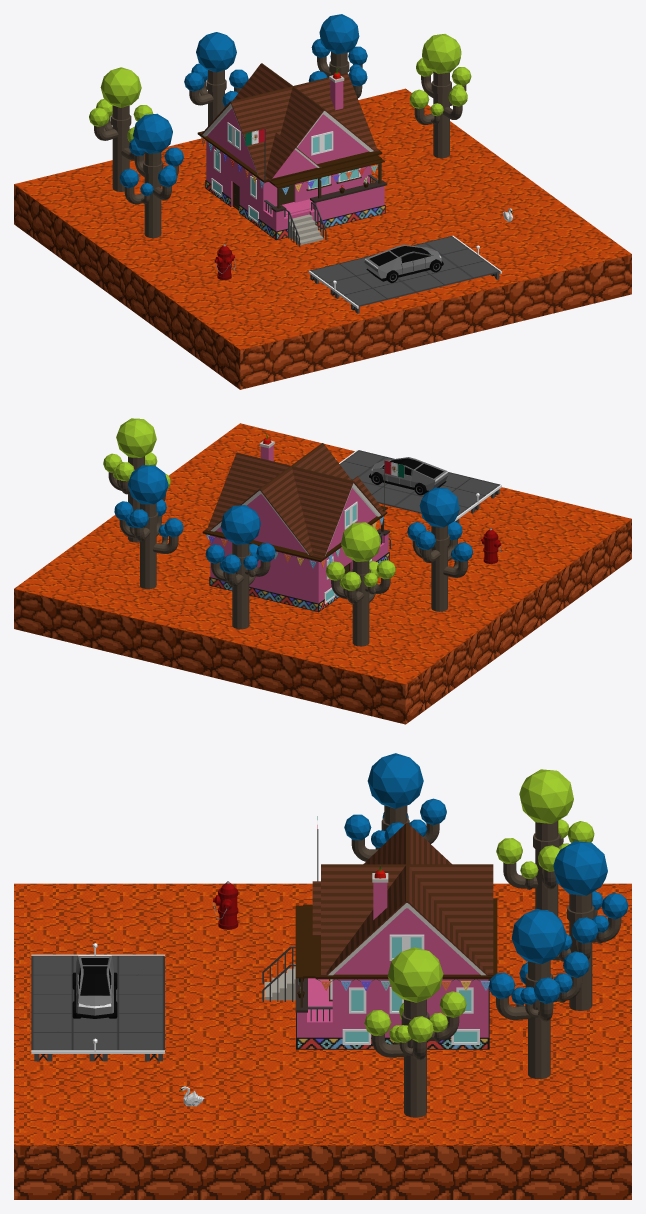
3 renders of one model, top to bottom at view 1: azimuth 30°, elevation 25°; view 2: azimuth 150°, elevation 25°; view 3: azimuth 270°, elevation 25°, orthographic. The views are drawn at different scales.
Visible parts, largest first — view 1: Cube.001, Cube.1005, VEHICLES_CYBERTRUCK, OBJRANDOM_FIRE_HYDRANT; view 2: Cube.001, Cube.1005, VEHICLES_CYBERTRUCK, OBJRANDOM_FIRE_HYDRANT; view 3: Cube.001, Cube.1005, VEHICLES_CYBERTRUCK, OBJRANDOM_FIRE_HYDRANT.
Boxes of the visible parts, left/top/right/bottom form: Cube.001: left=14, top=14, right=631, bottom=389; Cube.1005: left=197, top=63, right=387, bottom=246; VEHICLES_CYBERTRUCK: left=364, top=244, right=443, bottom=282; OBJRANDOM_FIRE_HYDRANT: left=214, top=244, right=235, bottom=279; Cube.001: left=14, top=418, right=631, bottom=724; Cube.1005: left=202, top=433, right=404, bottom=612; VEHICLES_CYBERTRUCK: left=369, top=457, right=448, bottom=495; OBJRANDOM_FIRE_HYDRANT: left=481, top=528, right=501, bottom=563; Cube.001: left=14, top=753, right=631, bottom=1199; Cube.1005: left=262, top=816, right=497, bottom=1049; VEHICLES_CYBERTRUCK: left=72, top=955, right=117, bottom=1018; OBJRANDOM_FIRE_HYDRANT: left=213, top=881, right=238, bottom=929.
Size of the model in its own units: 4000 by 1810 by 4000.
Materials: 65 (6 with a texture image).
